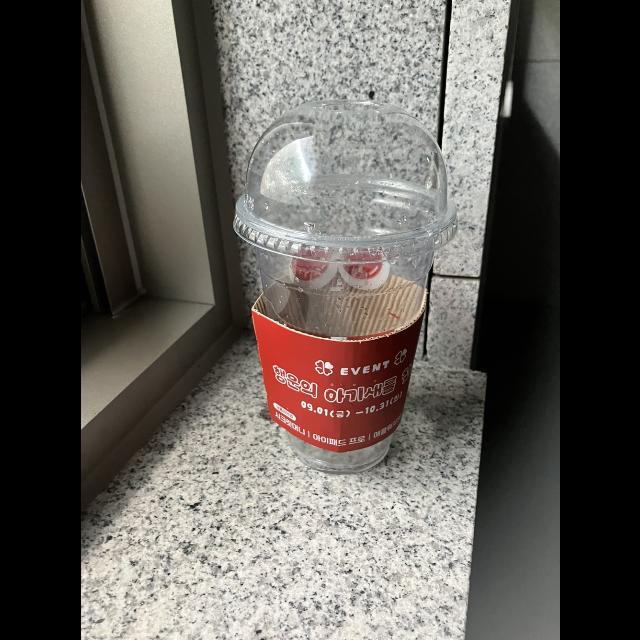plastic_cup_lid: (228, 97, 460, 479), (226, 96, 460, 266)
